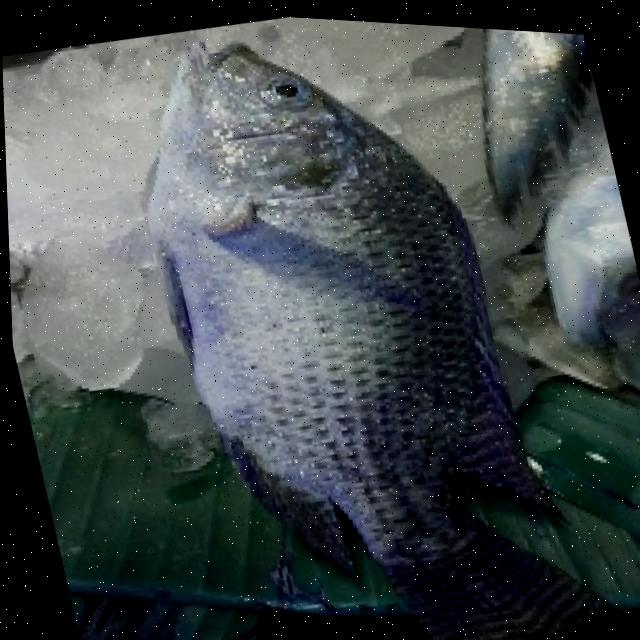Fresh: (84, 11, 526, 627)
